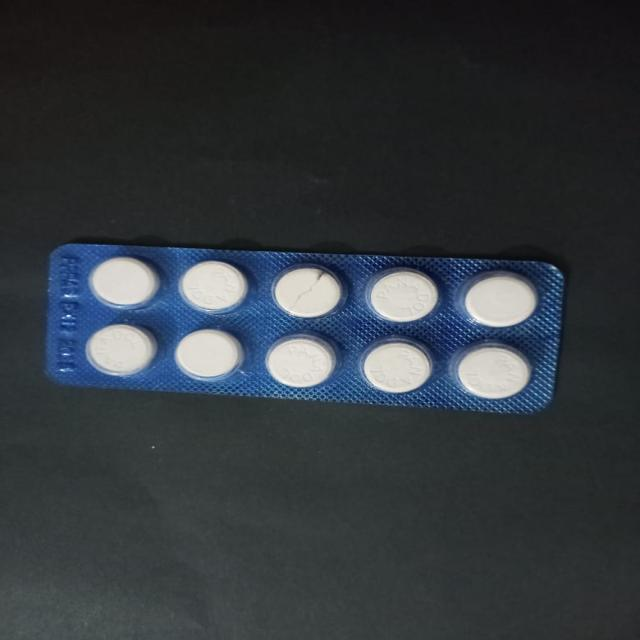defect: (269, 261, 350, 321)
